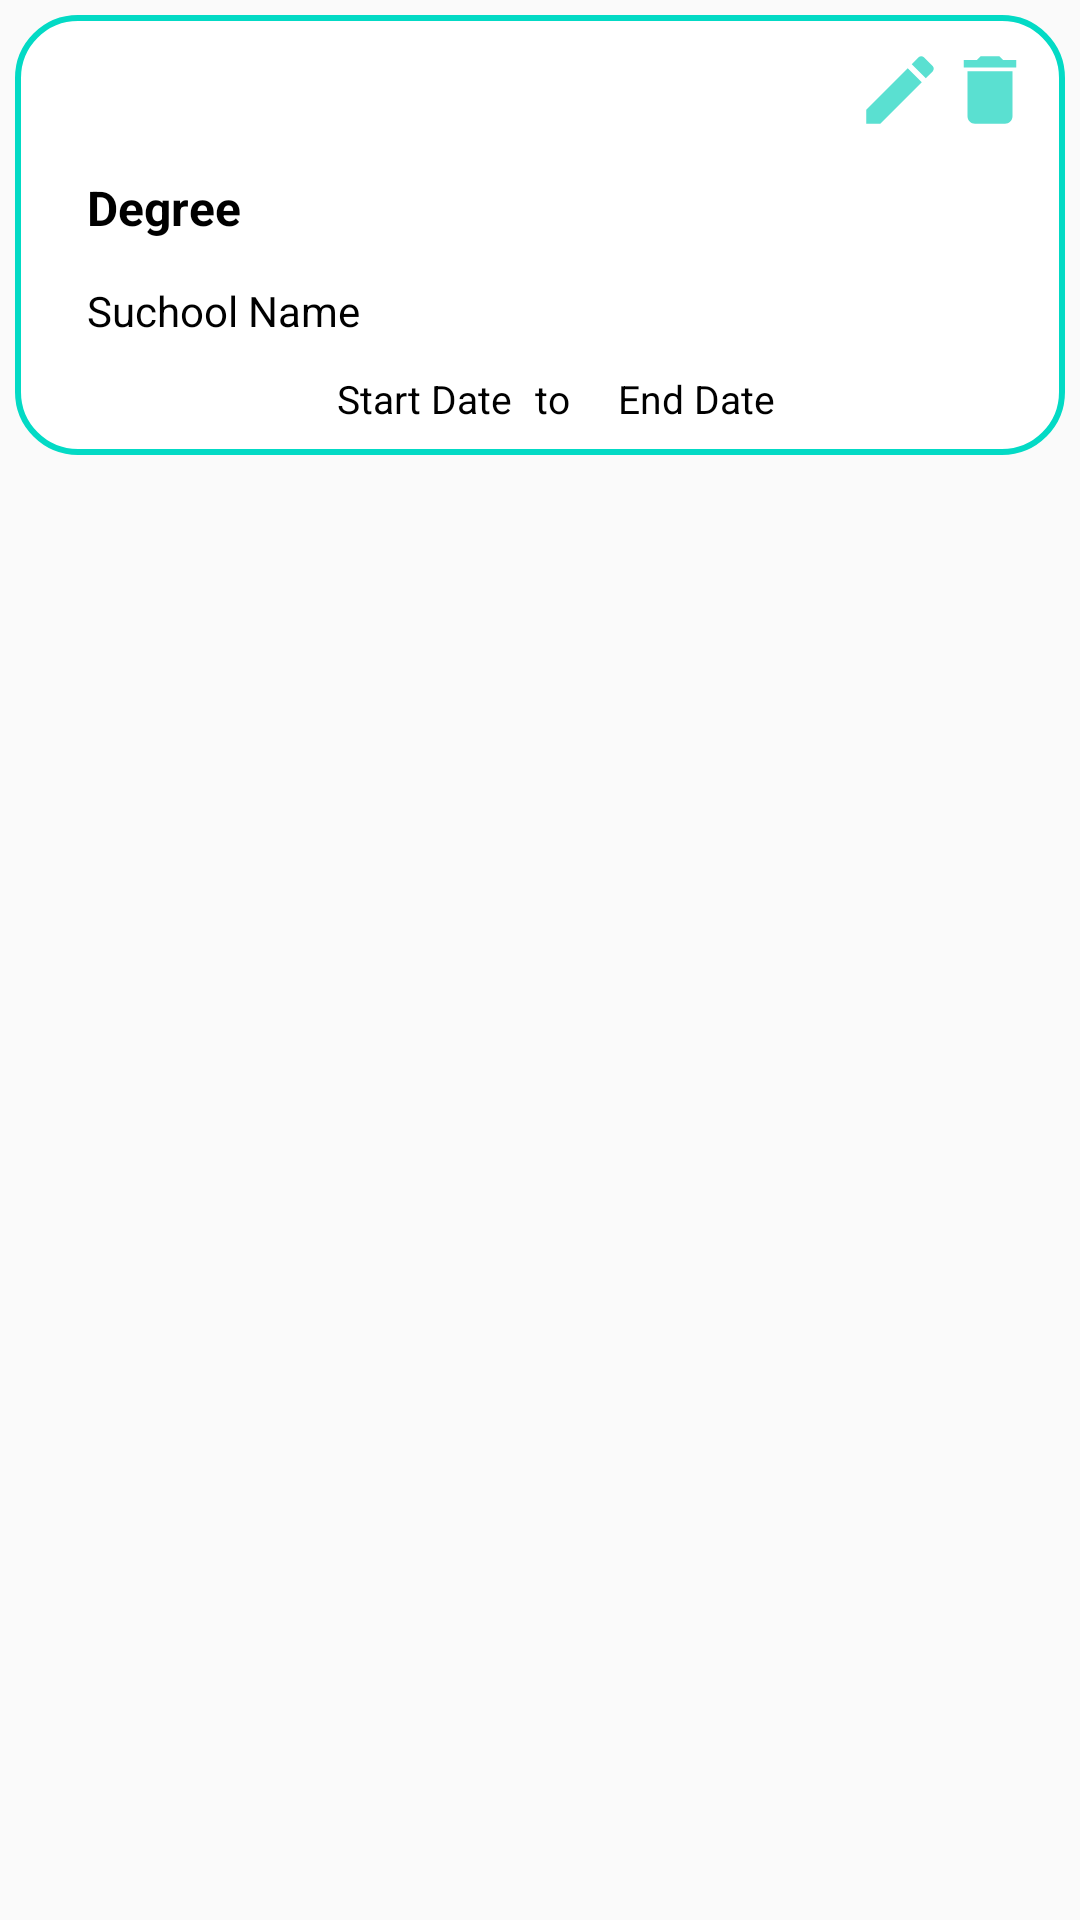

Icons on this 1080*1920 Android screen, each with its box as (x1=x1, y1=y1, x2=x2, y2=y2):
delete: (x1=963, y1=56, x2=1017, y2=124)
edit: (x1=866, y1=56, x2=934, y2=124)
